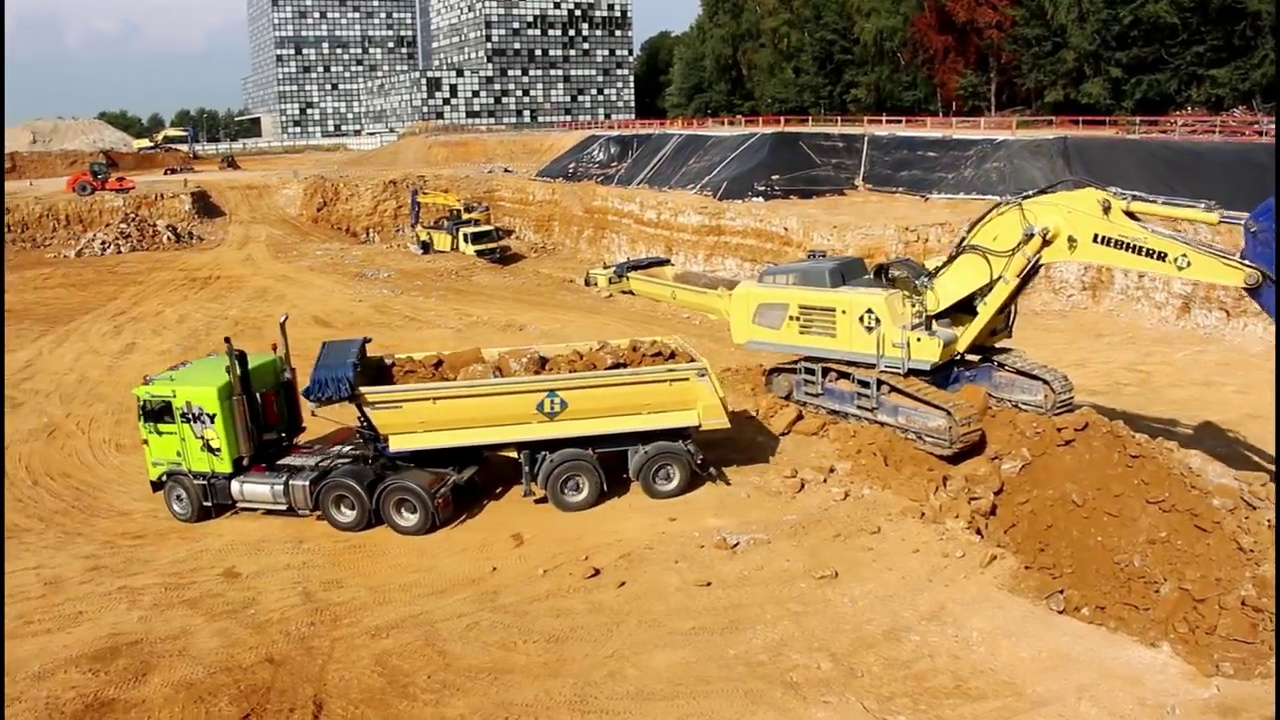compactor: (65, 159, 136, 199)
excavator: (724, 174, 1280, 463), (399, 179, 499, 251), (129, 123, 200, 161)
truck: (126, 307, 737, 540), (582, 251, 764, 347), (422, 216, 503, 274)
